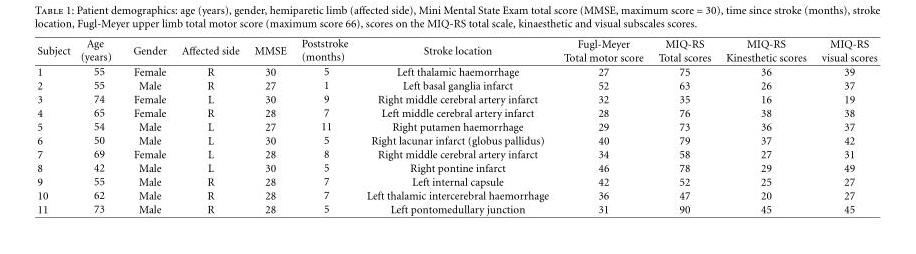table: (37, 37, 877, 215)
table column: (357, 37, 556, 215), (718, 37, 814, 215), (556, 37, 651, 215), (174, 37, 247, 215), (651, 37, 718, 215), (294, 37, 357, 215), (814, 37, 877, 215), (122, 37, 174, 215), (75, 37, 122, 215), (247, 37, 294, 215), (37, 37, 75, 215)
table column header: (37, 37, 877, 64)
table row: (37, 50, 877, 64), (37, 64, 877, 78), (37, 91, 877, 105), (37, 105, 877, 119), (37, 119, 877, 133), (37, 146, 877, 160), (37, 160, 877, 174), (37, 174, 877, 188), (37, 201, 877, 215), (37, 37, 877, 50), (37, 78, 877, 91), (37, 133, 877, 146), (37, 188, 877, 201)
table spanning cell: (357, 37, 556, 64), (718, 37, 814, 64), (556, 37, 651, 64), (174, 37, 247, 64), (651, 37, 718, 64), (294, 37, 357, 64), (814, 37, 877, 64), (122, 37, 174, 64), (75, 37, 122, 64), (247, 37, 294, 64), (37, 37, 75, 64)
